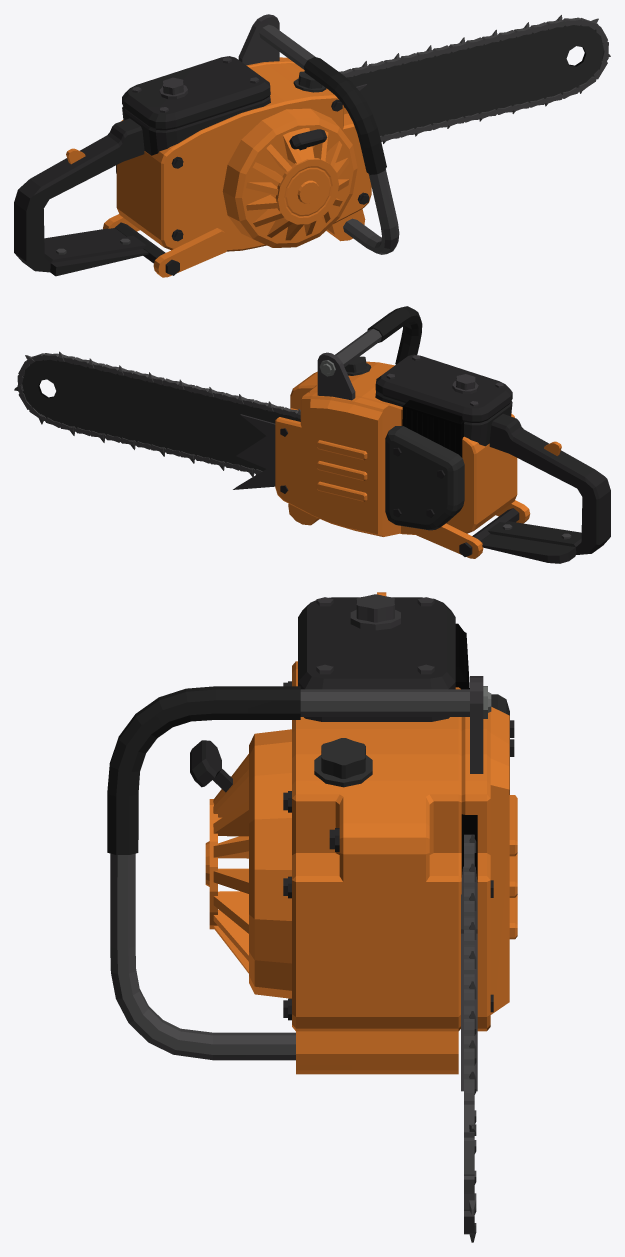
Rendered from SM_Chainsaw_02.glb.
3 renders of one model, top to bottom at view 1: azimuth 30°, elevation 25°; view 2: azimuth 150°, elevation 25°; view 3: azimuth 270°, elevation 25°, orthographic. The views are drawn at different scales.
Parts seen in each view (by area): view 1: SM_Chainsaw_02; view 2: SM_Chainsaw_02; view 3: SM_Chainsaw_02.
Boxes of the visible parts, x1,y1,x2,y2 form: SM_Chainsaw_02: (14, 14, 610, 277); SM_Chainsaw_02: (14, 306, 610, 563); SM_Chainsaw_02: (107, 592, 517, 1242).
Bounding box in the file's own units: 1.21 × 0.3684 × 0.3784.
1 material, 1 textured.
